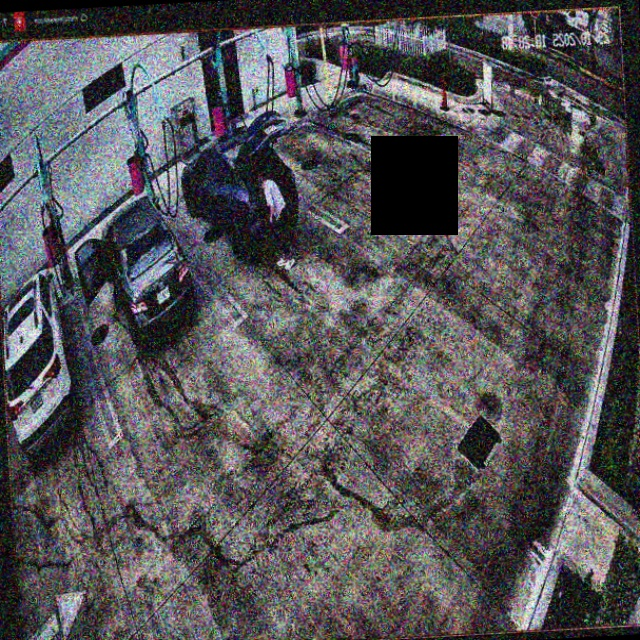Car: (73, 194, 196, 345), (178, 109, 298, 258)
